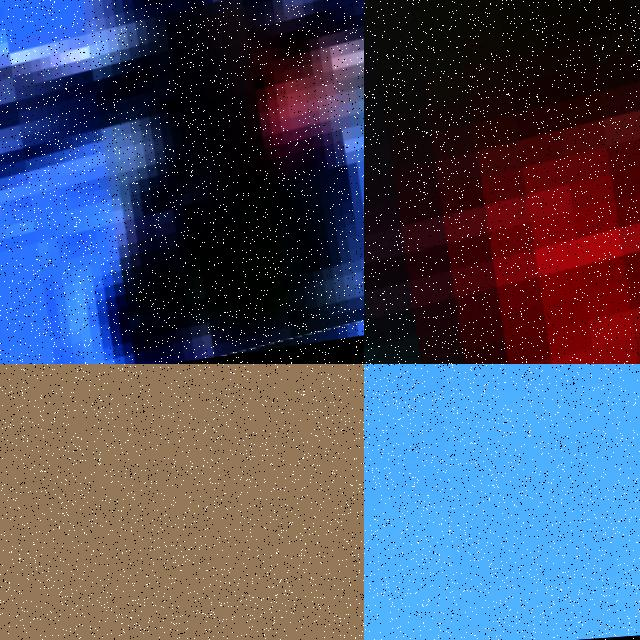drone: (0, 0, 364, 364), (364, 0, 640, 364)
